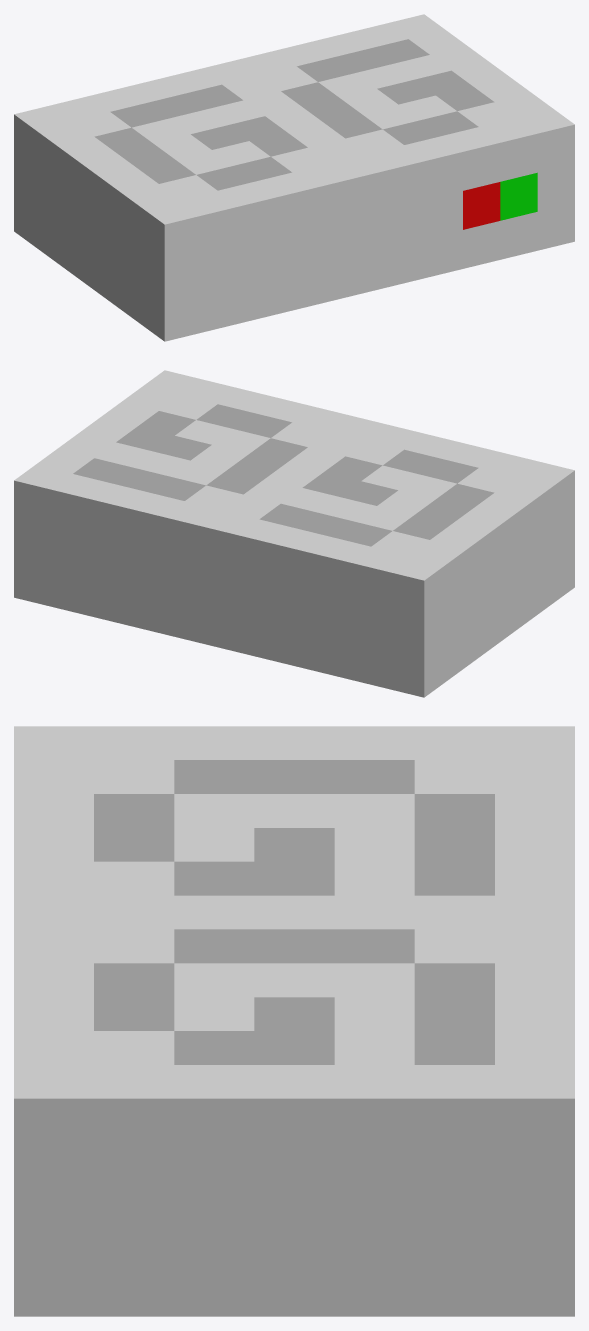
File: console.obj
3 views of the same model, one above another, from view 1: azimuth 30°, elevation 25°; view 2: azimuth 150°, elevation 25°; view 3: azimuth 270°, elevation 25° (orthographic). The views are drawn at different scales.
Size of the model in its own units: 1.1 by 0.3 by 0.7.
Materials: 1 (1 with a texture image).
